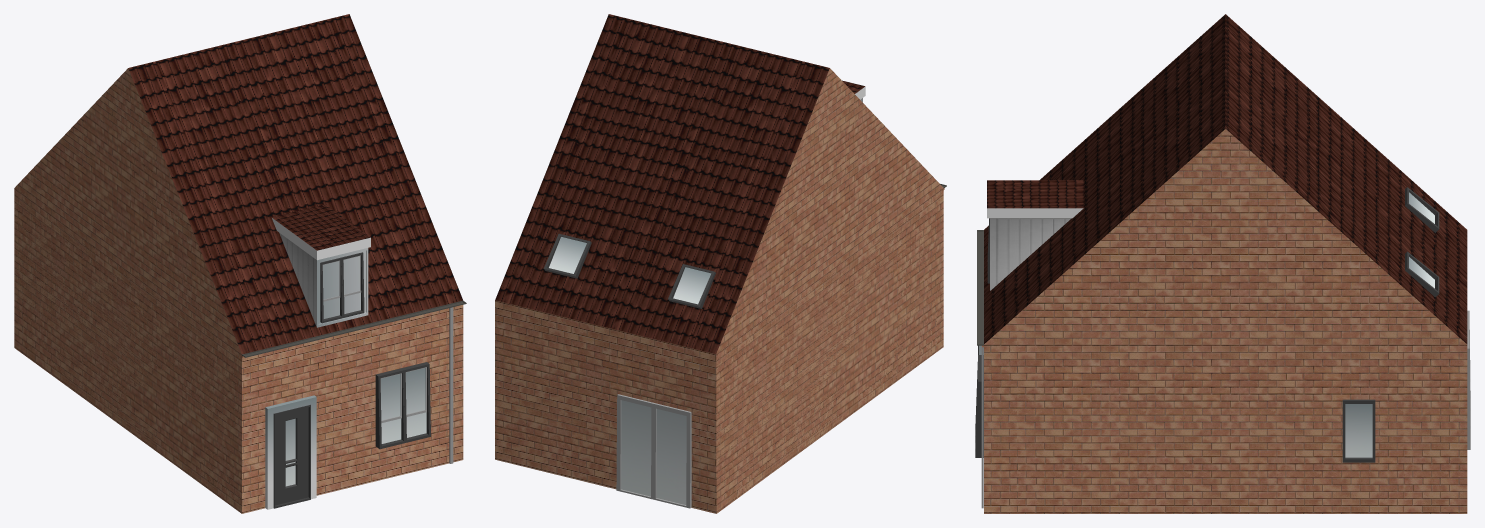
Rendered from Woning_39723_D2.fbx.
The picture shows the model from 3 angles, left to right: view 1: azimuth 30°, elevation 25°; view 2: azimuth 150°, elevation 25°; view 3: azimuth 270°, elevation 25°; orthographic projection. The views are drawn at different scales.
Parts seen in each view (by area): view 1: Woning_39723_D2; view 2: Woning_39723_D2; view 3: Woning_39723_D2.
Boxes of the visible parts, x1,y1,x2,y2 form: Woning_39723_D2: (14, 14, 466, 513); Woning_39723_D2: (495, 14, 946, 513); Woning_39723_D2: (975, 14, 1470, 513).
Size of the model in its own units: 575 by 885 by 1030.
